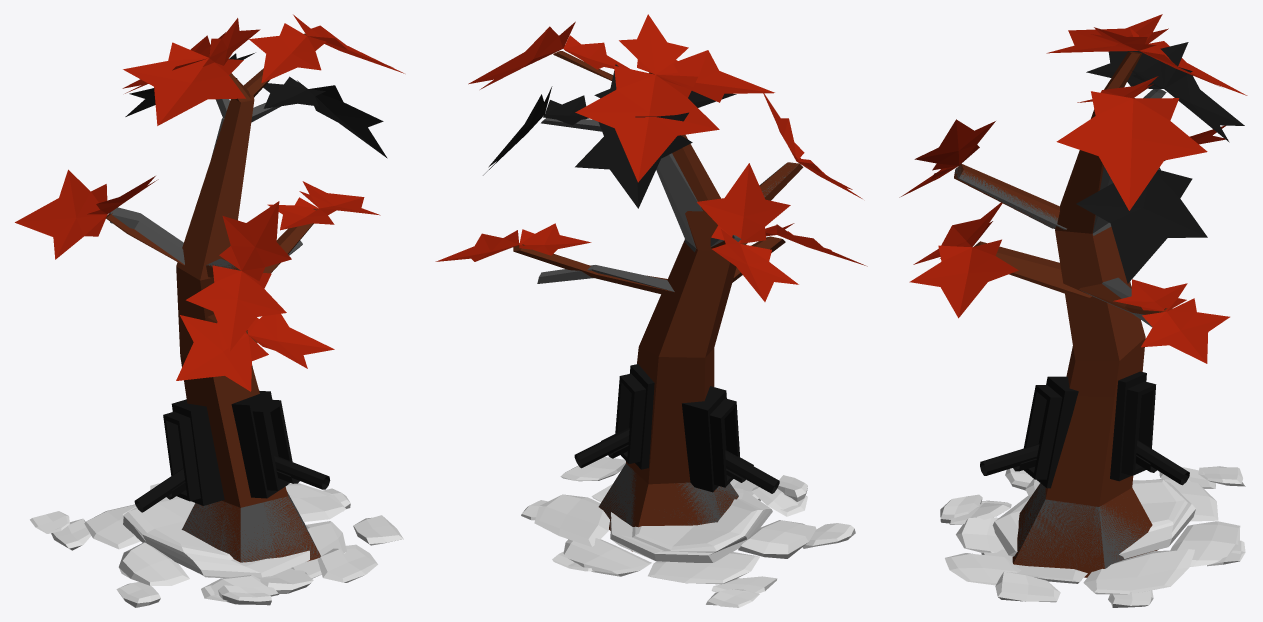
Rendered from Maple Gooper.fbx.
The picture shows the model from 3 angles, left to right: view 1: azimuth 30°, elevation 25°; view 2: azimuth 150°, elevation 25°; view 3: azimuth 270°, elevation 25°; orthographic projection. The views are drawn at different scales.
Visible parts, largest first — view 1: goope, Goop, goop damage; view 2: goope, Goop, goop damage; view 3: goope, goop damage, Goop.
Part boxes in pixels (x1,y1,x2,y2): goope: (15,14,404,562); Goop: (30,483,403,607); goop damage: (109,52,387,562); goope: (435,14,867,551); Goop: (521,457,855,607); goop damage: (483,64,796,526); goope: (899,14,1247,577); goop damage: (955,42,1244,569); Goop: (940,466,1245,607).
Bounding box in the file's own units: 213 × 304 × 181.
